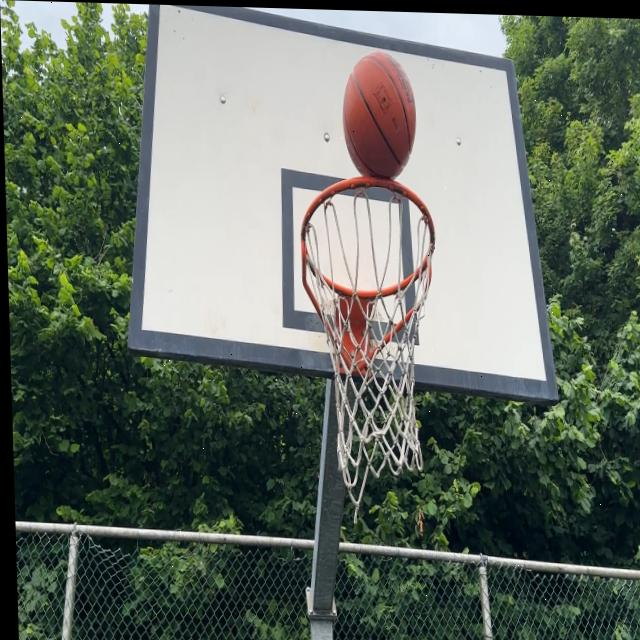rebound_hit: (341, 48, 418, 191)
